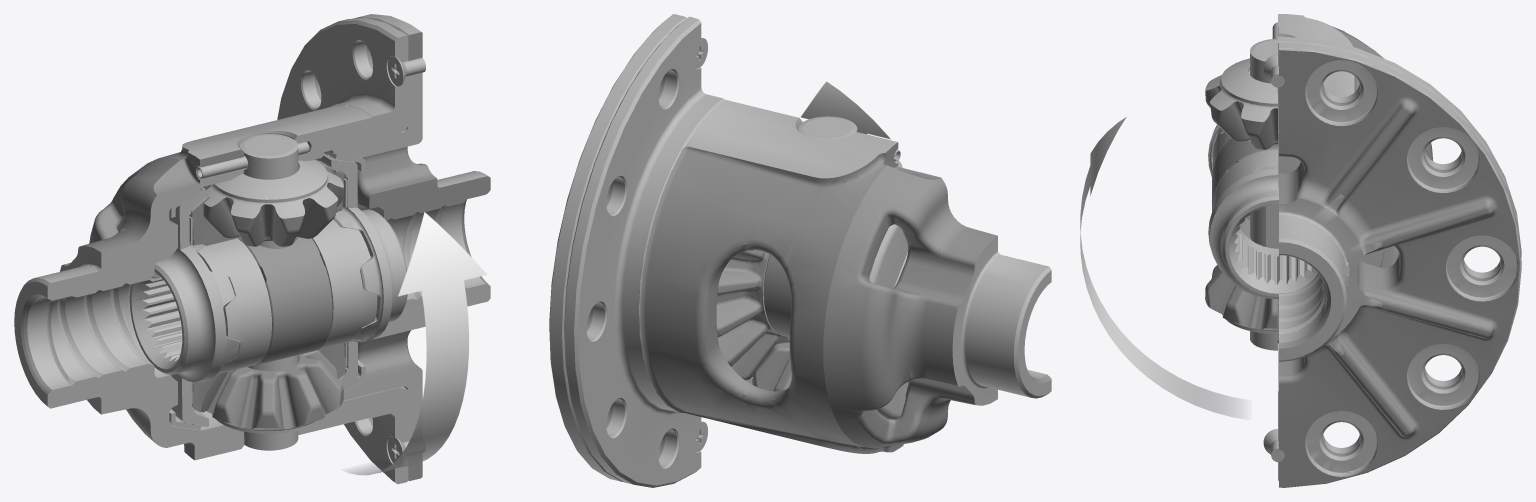
Rendered from ASLSD MAZDA(Presek).glb.
The picture shows the model from 3 angles, left to right: view 1: azimuth 30°, elevation 25°; view 2: azimuth 150°, elevation 25°; view 3: azimuth 270°, elevation 25°; orthographic projection. The views are drawn at different scales.
Visible parts, largest first — view 1: 10514422_CASE-B.002, 10514421_CASE-A.002, 10514882_CAM-RING,RH.1, Strelica, 10514425_GEAR-PINION.1, 10516850_BLOCK-THRUST.1, 10514427_GEAR-SIDE,RH.1, 10514423_CAM-RING,LH.1, 10514425_GEAR-PINION.2, 10514427_GEAR-SIDE,RH.002, 10310355_SHAFT-PINION.1, 10099689_WASHER-PINION.1 (+2 smaller); view 2: 10514422_CASE-B.002, 10514421_CASE-A.002, 10514427_GEAR-SIDE,RH.002, 10308501_RING-TAPER.1, Strelica, 10516850_BLOCK-THRUST.1, 10514425_GEAR-PINION.1, 10310355_SHAFT-PINION.1; view 3: 10514421_CASE-A.002, 10514423_CAM-RING,LH.1, 10514422_CASE-B.002, Strelica, 10514425_GEAR-PINION.2, 10514425_GEAR-PINION.1, 10310355_SHAFT-PINION.1, 10099689_WASHER-PINION.1, 10516850_BLOCK-THRUST.1, 10514427_GEAR-SIDE,RH.002.
Part boxes in pixels (box(x1,y1,x2,y2)): 10514422_CASE-B.002: box(14, 17, 425, 484); 10514421_CASE-A.002: box(315, 14, 490, 480); 10514882_CAM-RING,RH.1: box(129, 187, 239, 426); Strelica: box(347, 212, 487, 475); 10514425_GEAR-PINION.1: box(206, 350, 343, 430); 10516850_BLOCK-THRUST.1: box(237, 236, 332, 365); 10514427_GEAR-SIDE,RH.1: box(189, 194, 271, 412); 10514423_CAM-RING,LH.1: box(315, 153, 407, 386); 10514425_GEAR-PINION.2: box(203, 166, 343, 246); 10514427_GEAR-SIDE,RH.002: box(312, 163, 377, 379); 10310355_SHAFT-PINION.1: box(240, 134, 298, 450); 10099689_WASHER-PINION.1: box(213, 159, 327, 202); 10514422_CASE-B.002: box(564, 16, 1051, 487); 10514421_CASE-A.002: box(549, 14, 686, 481); 10514427_GEAR-SIDE,RH.002: box(716, 250, 788, 380); 10308501_RING-TAPER.1: box(869, 224, 908, 419); Strelica: box(801, 81, 890, 139); 10516850_BLOCK-THRUST.1: box(763, 255, 791, 337); 10514425_GEAR-PINION.1: box(752, 337, 791, 391); 10310355_SHAFT-PINION.1: box(798, 116, 857, 139); 10514421_CASE-A.002: box(1278, 42, 1521, 487); 10514423_CAM-RING,LH.1: box(1208, 132, 1384, 343); 10514422_CASE-B.002: box(1263, 14, 1521, 480); Strelica: box(1080, 117, 1239, 417); 10514425_GEAR-PINION.2: box(1205, 70, 1278, 149); 10514425_GEAR-PINION.1: box(1205, 265, 1277, 331); 10310355_SHAFT-PINION.1: box(1250, 38, 1278, 350); 10099689_WASHER-PINION.1: box(1221, 58, 1277, 106); 10516850_BLOCK-THRUST.1: box(1212, 138, 1278, 240); 10514427_GEAR-SIDE,RH.002: box(1212, 149, 1278, 210).
Size of the model in its own units: 0.166 by 0.16 by 0.1453.
Materials: 3 (1 with a texture image).
